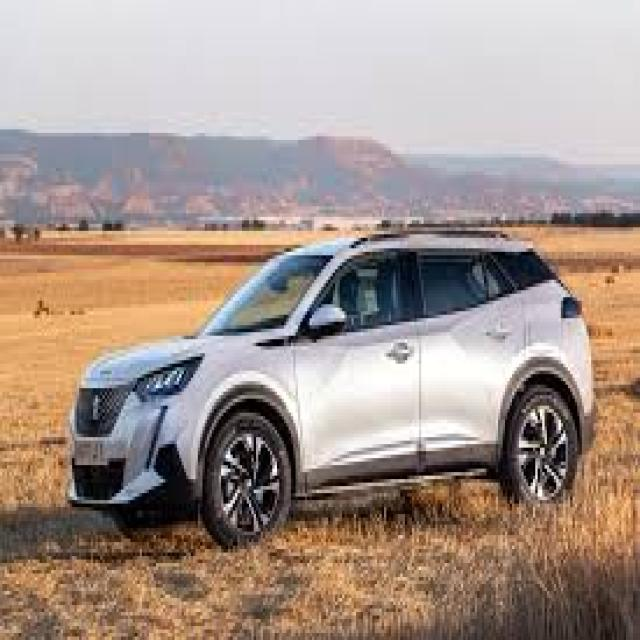SUV: (63, 217, 596, 549)
